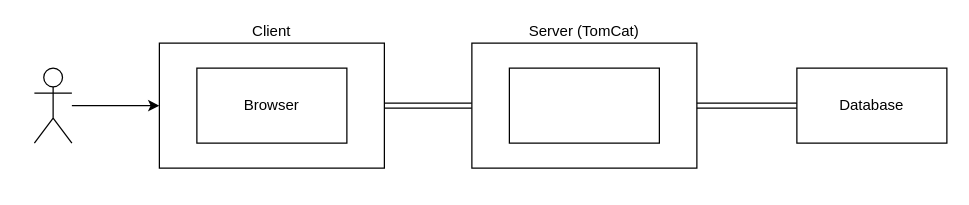
The diagram is 969 pixels wide and 205 high, and some of its shapes have lost their labels. The shapes that lost their labels are listed below. From the top down, each one's centre as x and y in pixels, then its label:
At (x=52, y=105): "Actor".
At (x=583, y=105): "REST interface".
